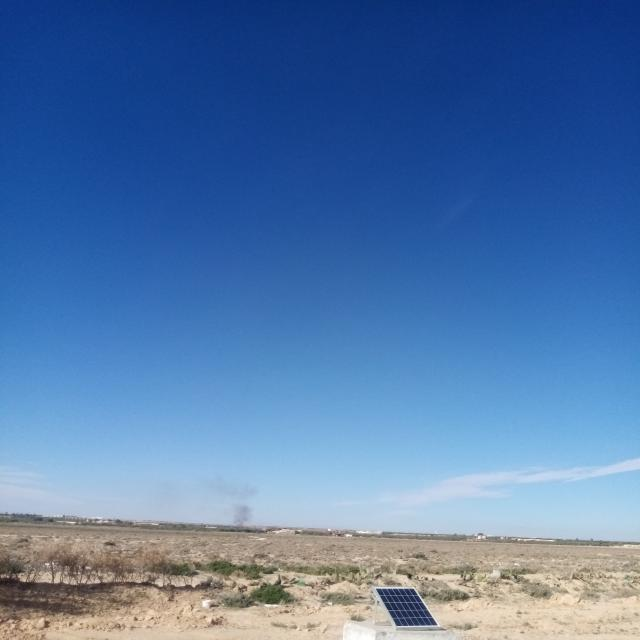no faulty: (373, 587, 439, 628)
